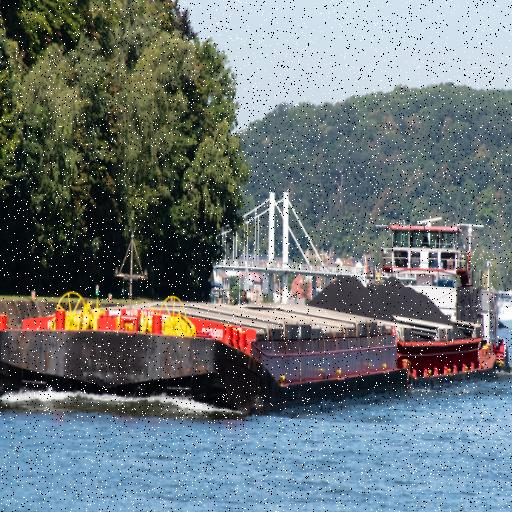tugboat: (368, 214, 512, 379)
